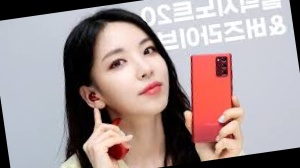earphone: (78, 82, 107, 112)
